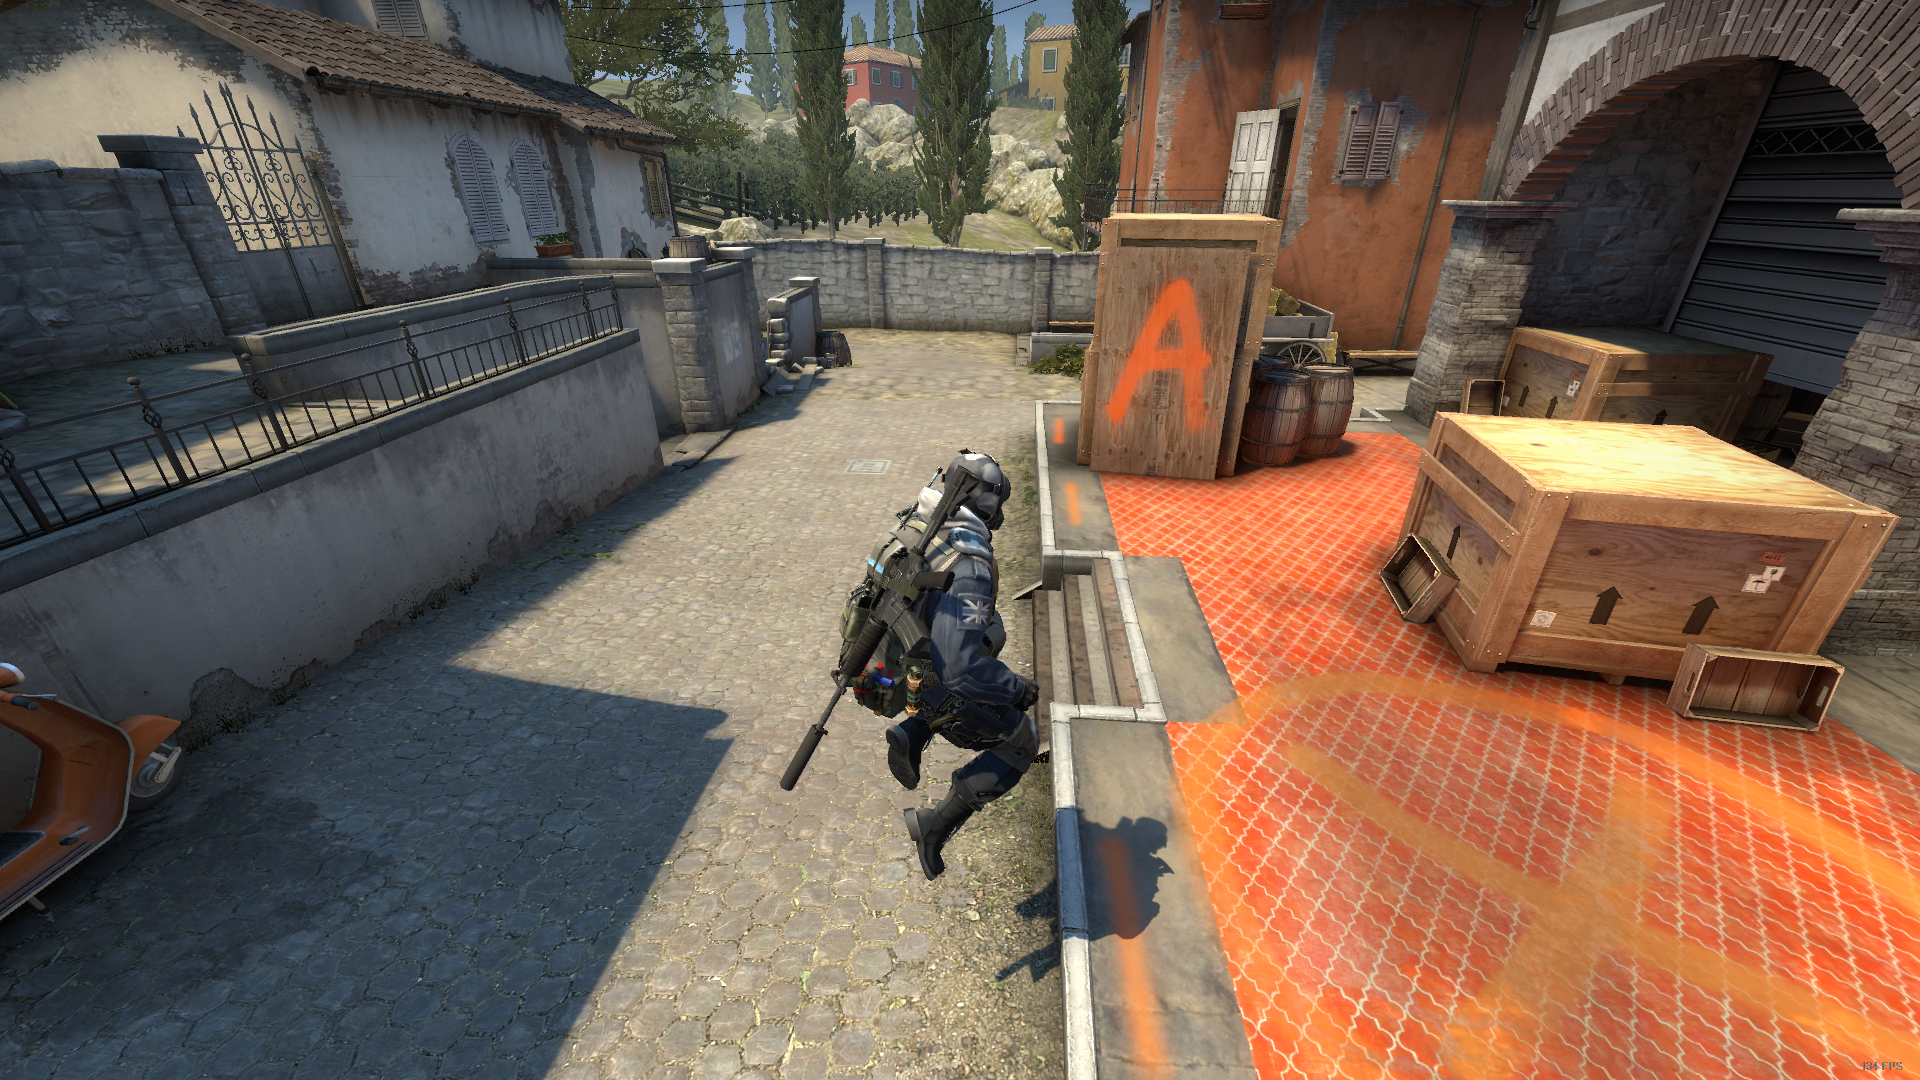ct: (841, 451, 1040, 885)
